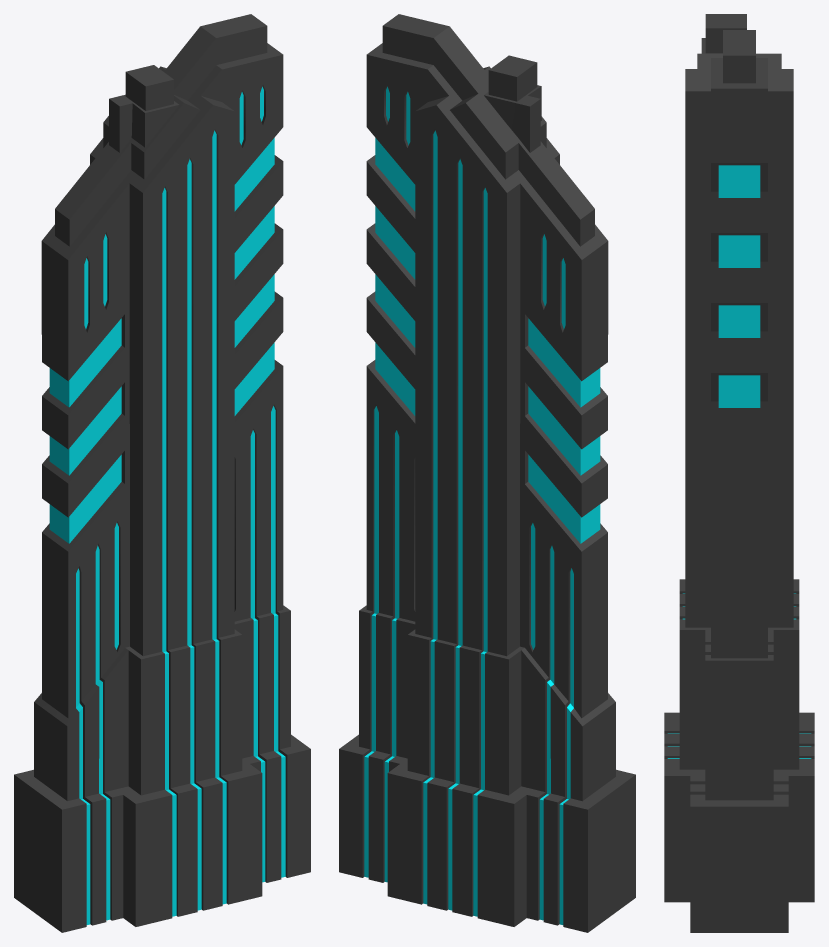
The model's file is Deco Corpo.fbx.
3 views of the same model, side by side, from view 1: azimuth 30°, elevation 25°; view 2: azimuth 150°, elevation 25°; view 3: azimuth 270°, elevation 25° (orthographic). The views are drawn at different scales.
Visible parts, largest first — view 1: Corpo 1; view 2: Corpo 1; view 3: Corpo 1.
Boxes of the visible parts, left/top/right/bottom form: Corpo 1: left=14, top=14, right=310, bottom=932; Corpo 1: left=339, top=14, right=635, bottom=932; Corpo 1: left=664, top=14, right=814, bottom=932.
Bounding box in the file's own units: 4547 × 14696 × 2314.
